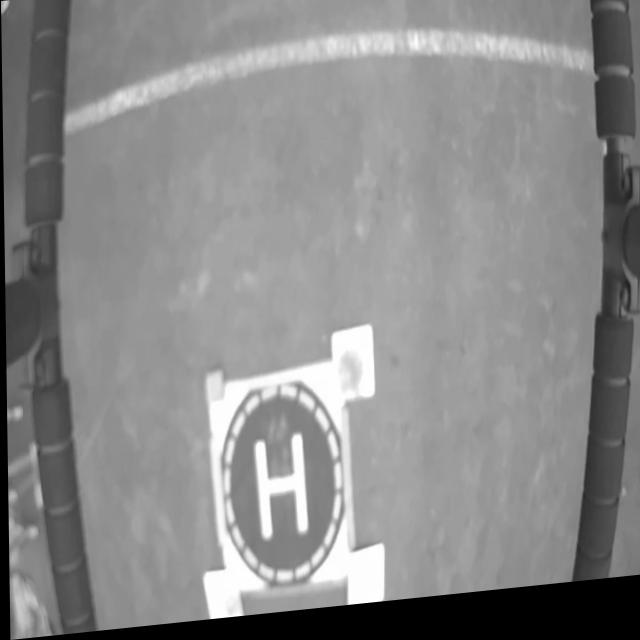Helipad: (252, 439, 307, 545)
